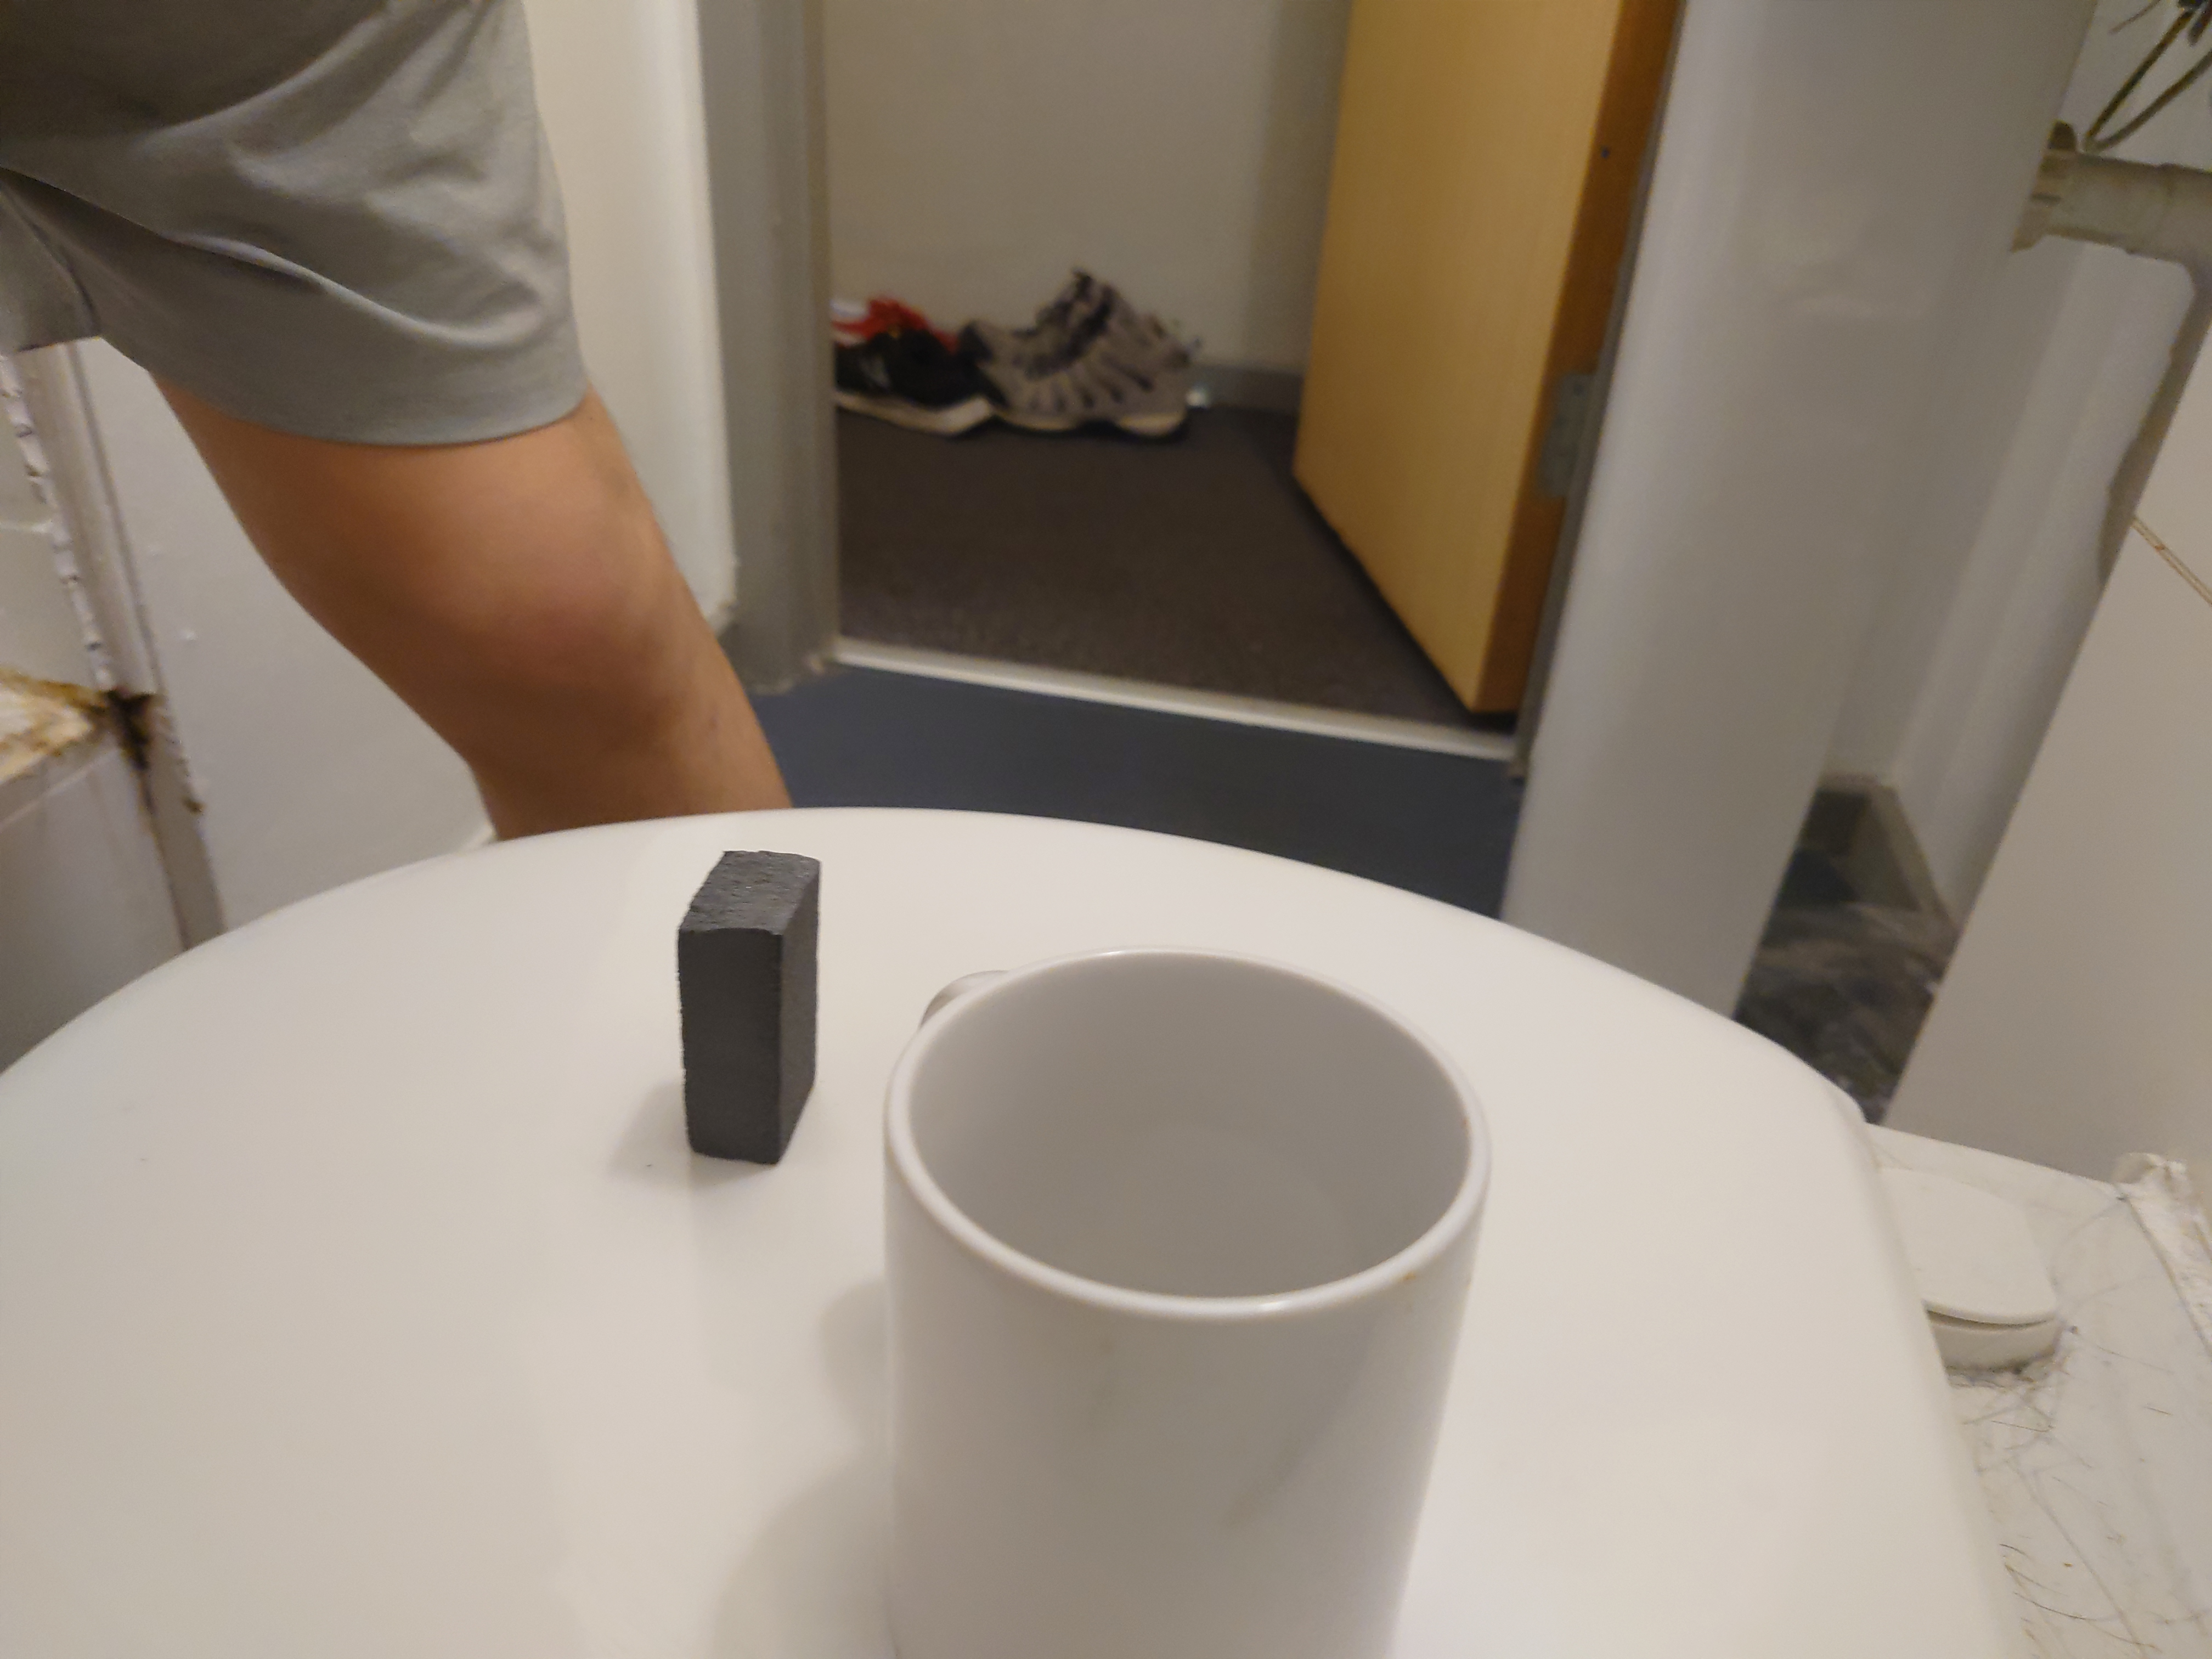cup: (871, 957, 1493, 1659)
target: (672, 838, 827, 1178)
